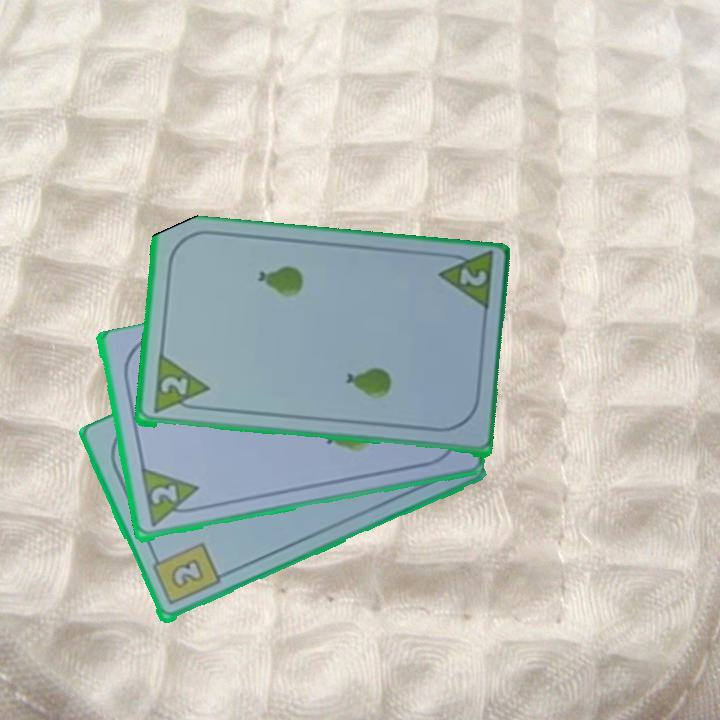2b: (148, 539, 223, 609)
2p: (137, 466, 204, 531), (156, 373, 190, 398), (455, 265, 489, 290)
